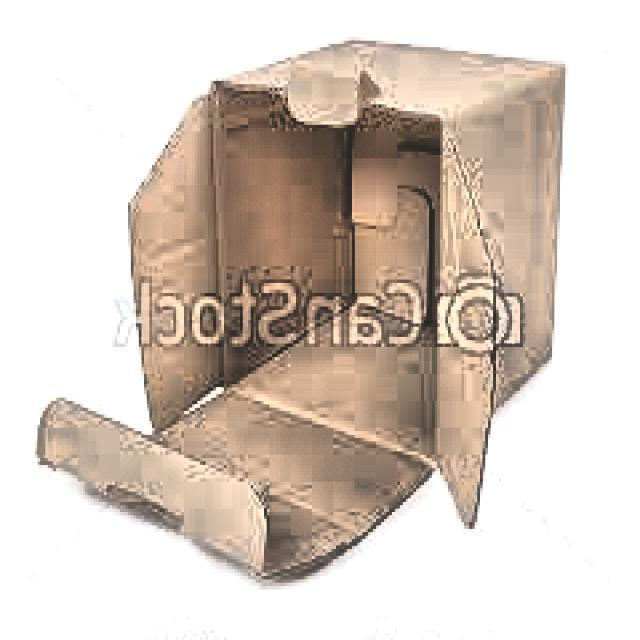cardboard: (37, 33, 568, 580)
